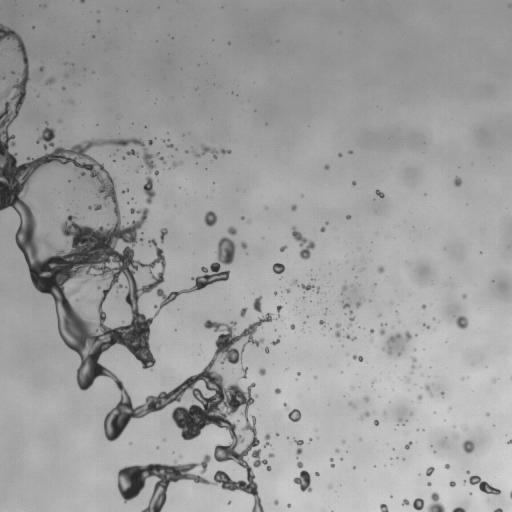droplet: (292, 226, 315, 259), (36, 126, 55, 149), (427, 492, 445, 511), (204, 211, 217, 226), (456, 316, 468, 329), (462, 440, 474, 453), (253, 295, 262, 312), (288, 409, 300, 421), (272, 263, 285, 274), (413, 498, 424, 511), (126, 149, 138, 156), (426, 466, 434, 476), (227, 226, 236, 234), (360, 411, 369, 419), (240, 307, 247, 317), (404, 331, 411, 341), (454, 177, 461, 186), (376, 190, 384, 197), (404, 441, 411, 449), (380, 504, 388, 511), (45, 78, 54, 84), (353, 355, 362, 361), (401, 499, 409, 505), (343, 302, 350, 308), (379, 328, 385, 335), (259, 368, 265, 375), (274, 388, 281, 394), (241, 242, 247, 248), (280, 245, 286, 251), (319, 320, 325, 326), (449, 481, 455, 487), (378, 266, 383, 273), (291, 204, 296, 210), (320, 226, 325, 231), (290, 324, 295, 329), (364, 397, 369, 402), (444, 464, 449, 469), (122, 189, 128, 193), (356, 301, 360, 307), (423, 324, 429, 328), (265, 347, 269, 353), (348, 402, 354, 406), (268, 453, 274, 457), (167, 143, 172, 147), (173, 162, 177, 167), (324, 165, 329, 169), (462, 293, 466, 298), (374, 420, 378, 425), (11, 70, 15, 74), (148, 140, 152, 144), (352, 181, 356, 185), (346, 215, 350, 219), (422, 304, 426, 308), (397, 351, 401, 355), (418, 395, 422, 399), (427, 482, 431, 486), (274, 500, 278, 504), (285, 289, 290, 292), (370, 329, 373, 333), (398, 417, 401, 421), (508, 439, 511, 443), (335, 449, 339, 452), (315, 472, 319, 475), (40, 67, 43, 70), (349, 150, 352, 153), (338, 153, 341, 156), (241, 216, 244, 219), (382, 347, 385, 350), (405, 377, 408, 380), (287, 504, 290, 507), (80, 0, 84, 2), (0, 97, 2, 100), (45, 122, 48, 124), (97, 286, 100, 288), (274, 292, 277, 294), (486, 413, 489, 415), (467, 471, 469, 474), (228, 501, 230, 504), (2, 76, 4, 78), (139, 165, 141, 167), (326, 222, 328, 224), (312, 278, 314, 280), (396, 311, 398, 313), (298, 372, 300, 374), (314, 376, 316, 378), (372, 381, 374, 383), (441, 392, 443, 394), (276, 433, 278, 435), (309, 439, 311, 441), (463, 481, 465, 483), (329, 486, 331, 488)
ligament: (0, 23, 273, 511), (469, 475, 501, 494), (293, 460, 311, 492), (193, 144, 231, 159), (292, 280, 319, 292), (387, 333, 402, 354), (347, 310, 355, 328), (294, 439, 303, 455), (160, 228, 167, 242), (240, 365, 247, 378), (276, 304, 282, 319), (335, 323, 341, 337), (264, 434, 270, 447), (425, 385, 432, 395), (345, 334, 356, 340), (411, 357, 416, 370), (271, 337, 279, 345), (452, 507, 465, 511), (341, 285, 347, 293), (283, 403, 288, 409), (330, 458, 333, 467), (493, 508, 502, 511), (510, 492, 511, 498)
